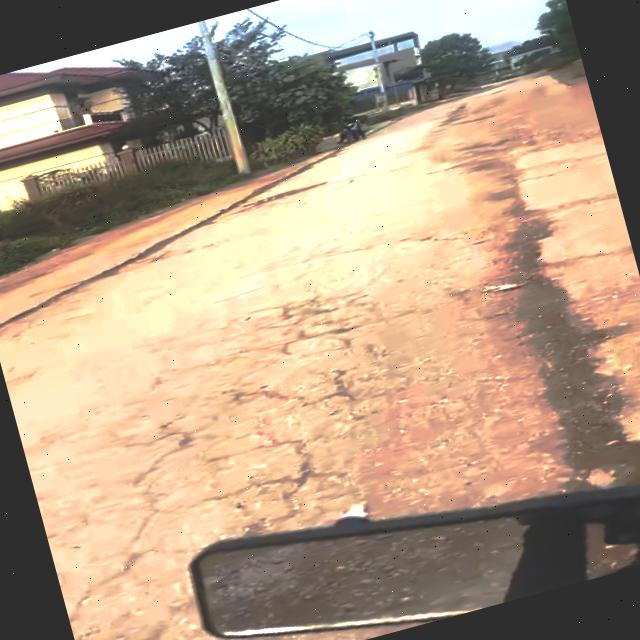pothole: (510, 216, 640, 501)
